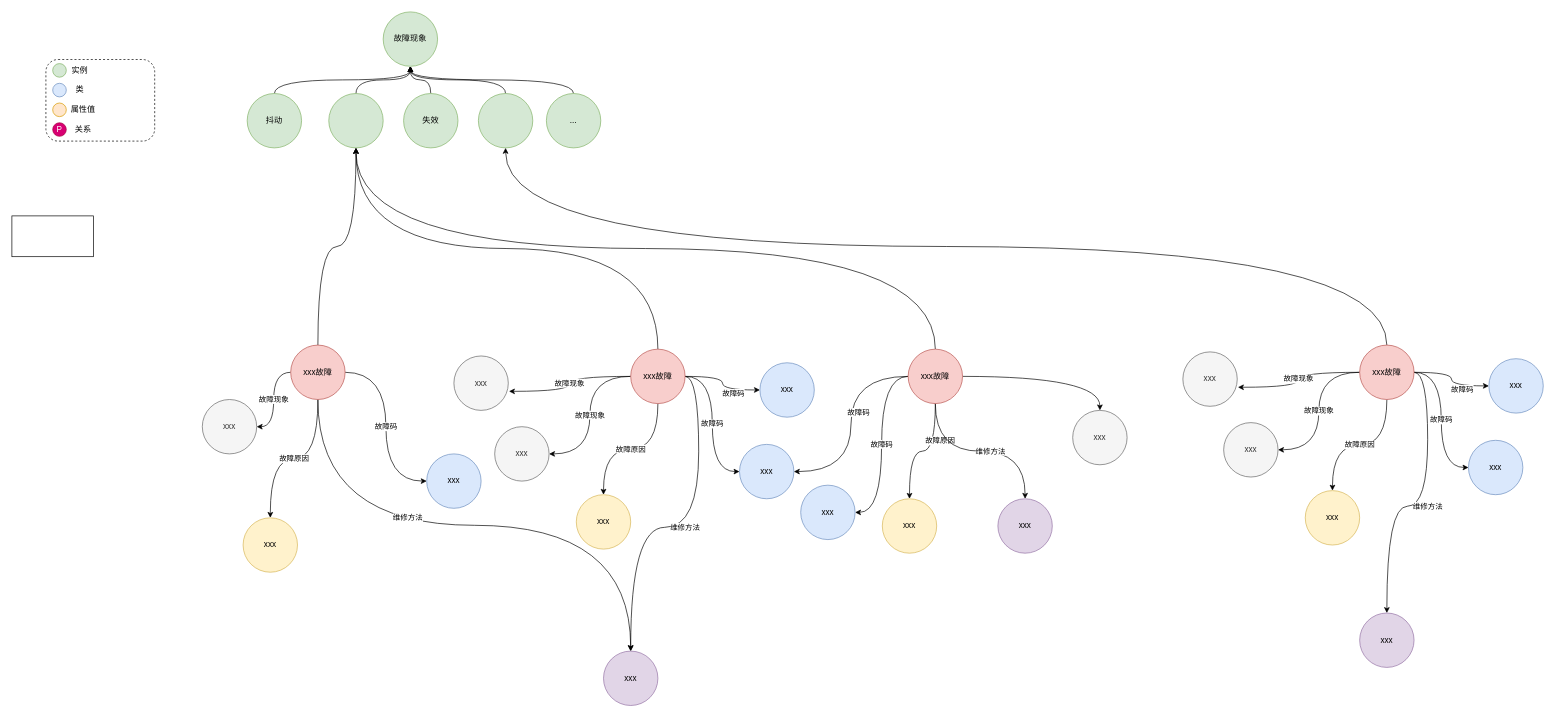
The diagram is 1555 pixels wide and 717 high, and some of its shapes have lost their labels. The shapes that lost their labels are listed below. From the top down, each one's box as (x1, y1, x2, y2) in pixels, then its label:
(328, 93, 383, 148): 异响
(478, 93, 533, 148): 过温
(11, 215, 94, 257): 概率
